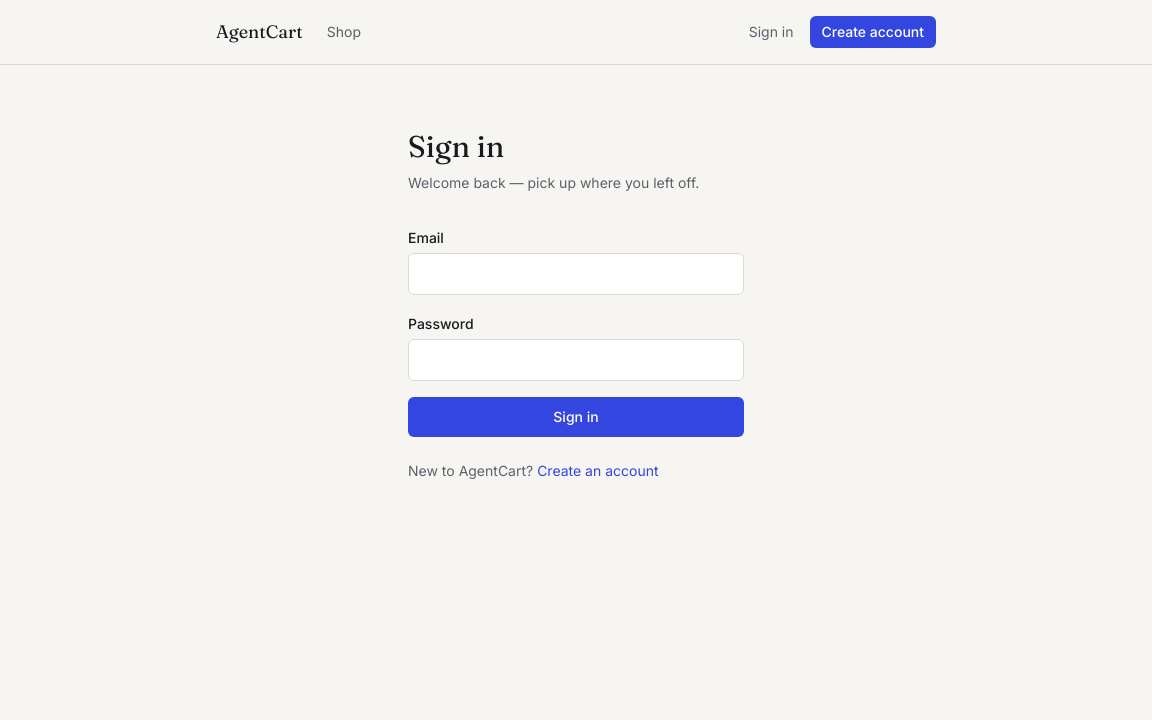
it: login form › stores the token, sends it on later requests, and lands on the shop
The image size is (1152, 720).
Type "casey@example.com" into the field labelled "Email" at (576,274), box [408,253,744,295]
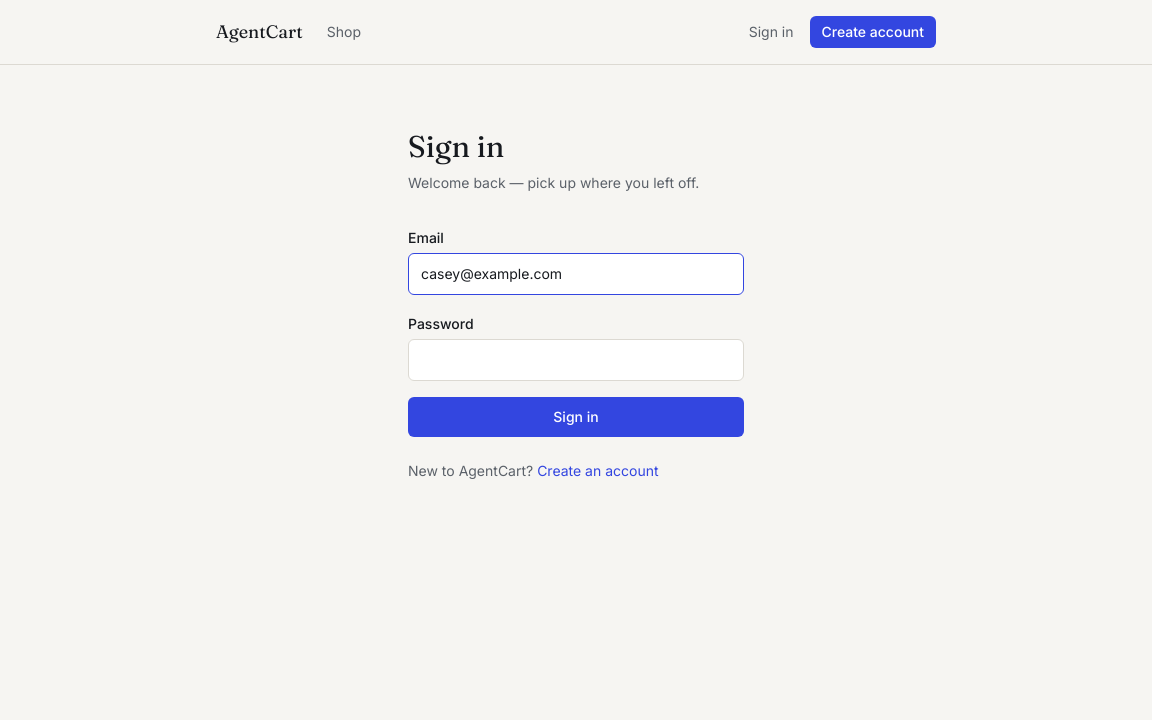
Type "correct horse battery" into the password field labelled "Password" at (576,360), box [408,339,744,381]
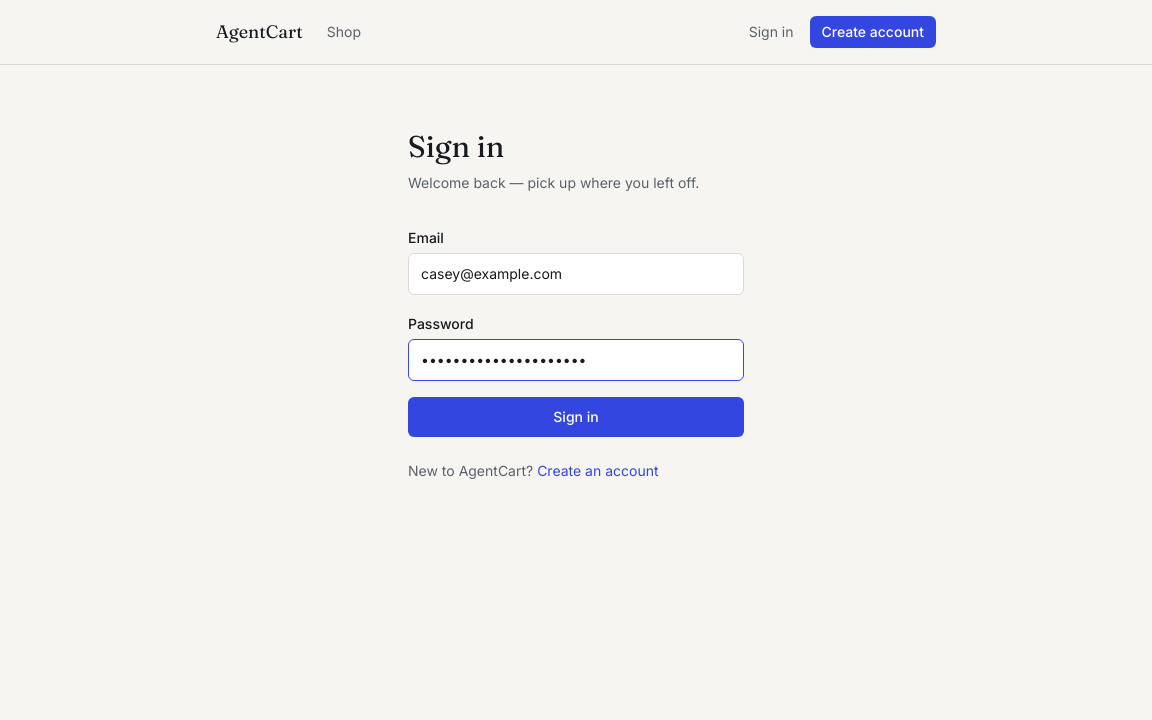
Click the button "Sign in" at (576,417), box [408,397,744,437]
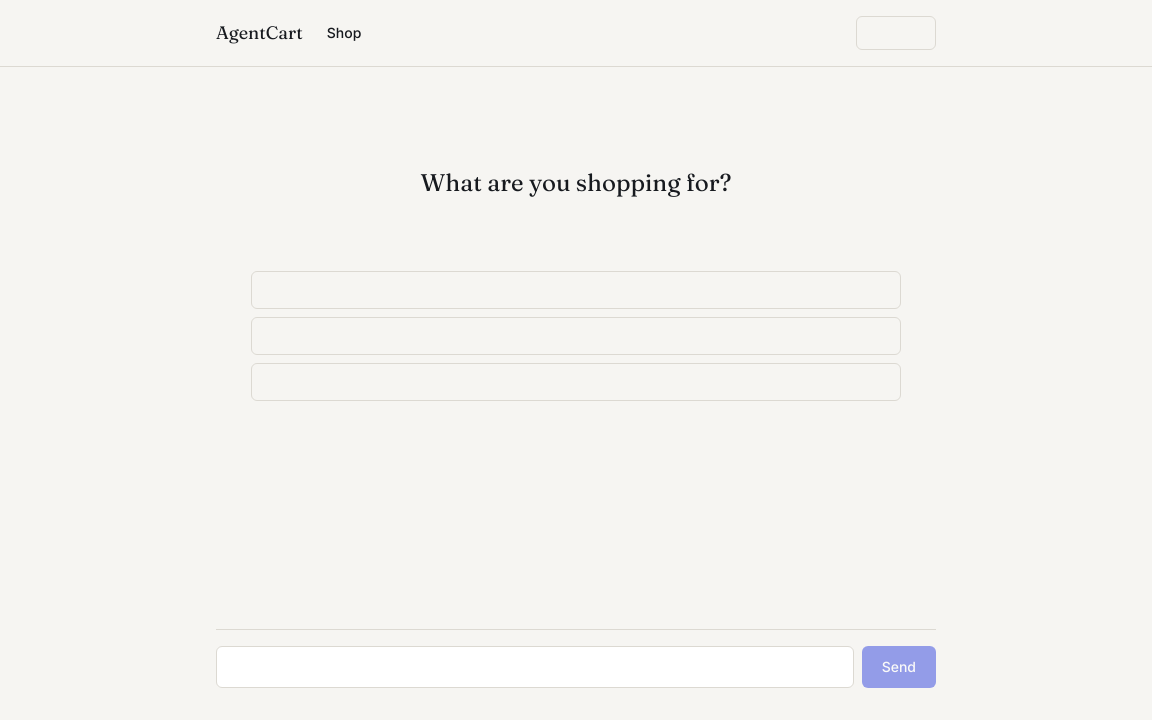
Result: the text "What are you shopping for?" is shown at [420,167,731,199]
